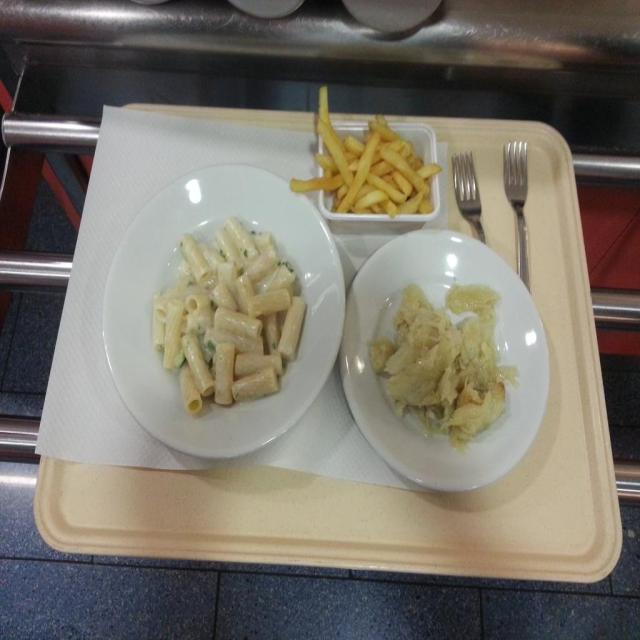plate: (101, 160, 348, 458), (345, 222, 550, 500), (301, 112, 446, 224)
